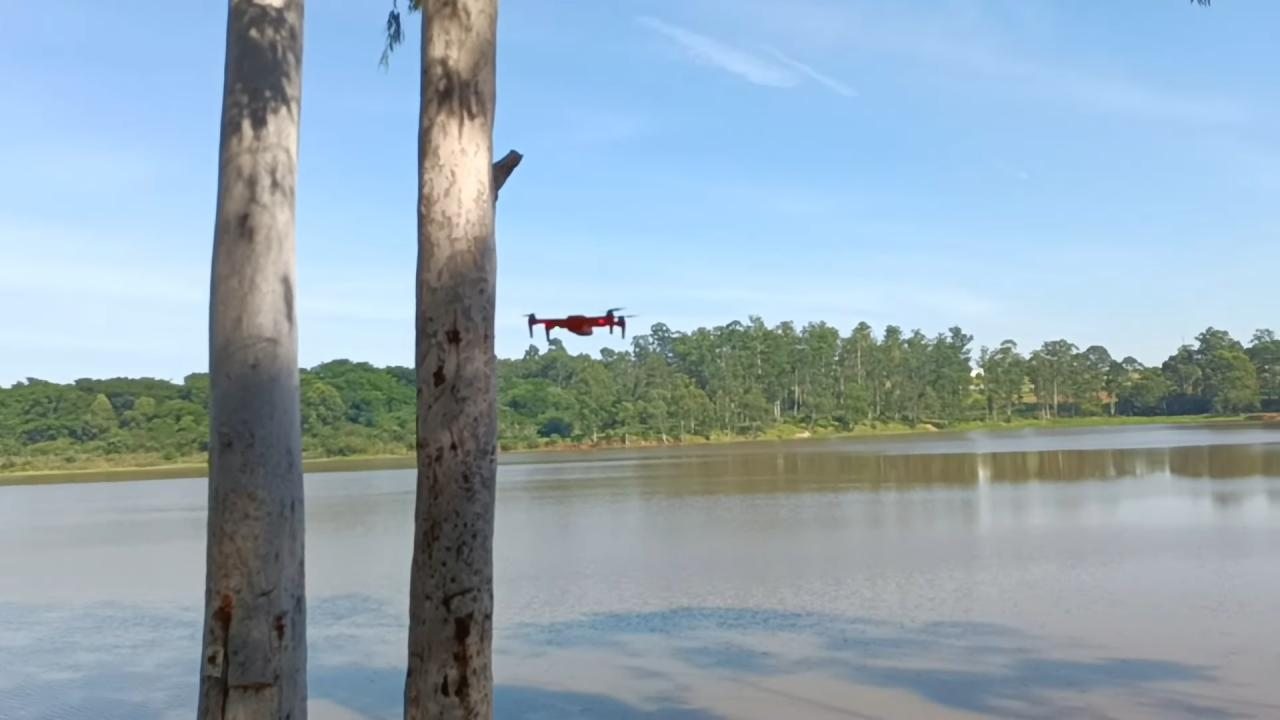Drone: (508, 292, 646, 348)
